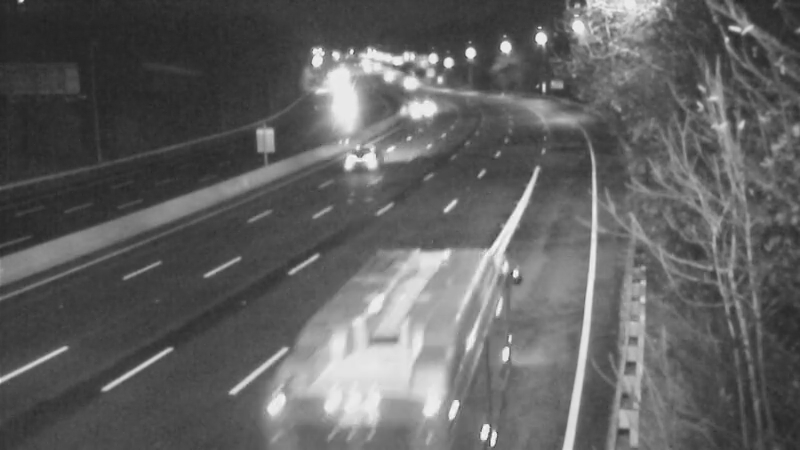vehicle: (338, 282, 448, 392), (317, 117, 397, 197), (383, 58, 433, 108), (402, 83, 452, 133), (319, 82, 369, 132)
